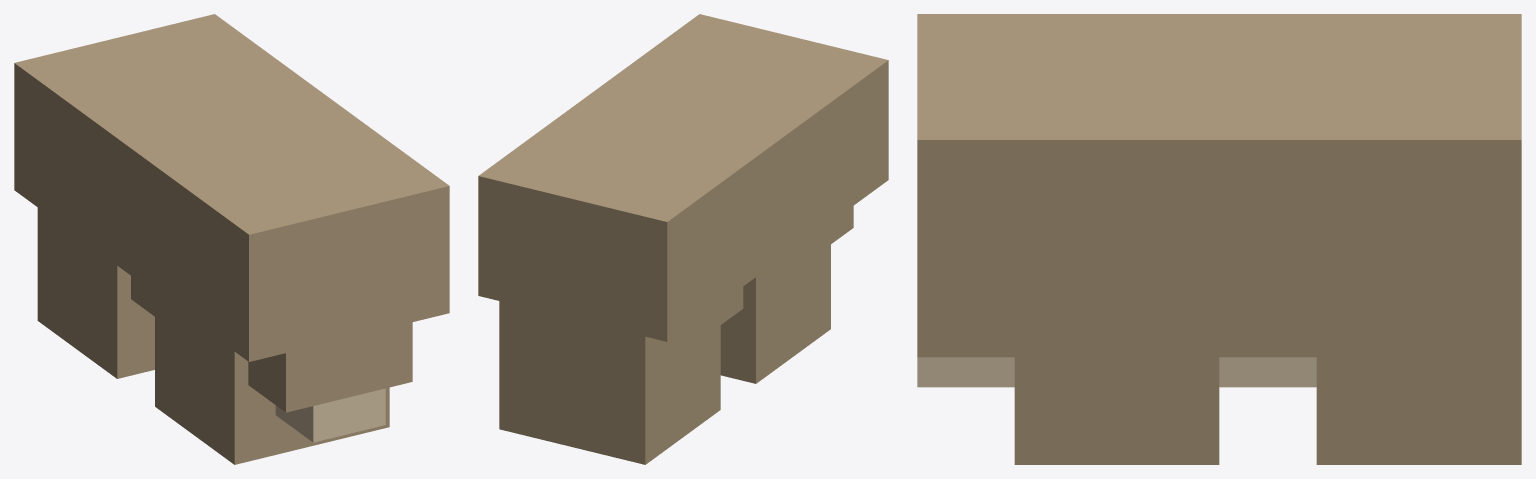
Rendered from DarkSandStoneWallMediumTopper1.fbx.
3 views of the same model, side by side, from view 1: azimuth 30°, elevation 25°; view 2: azimuth 150°, elevation 25°; view 3: azimuth 270°, elevation 25° (orthographic). The views are drawn at different scales.
Visible parts, largest first — view 1: DarkSandStoneWallMediumTopper1; view 2: DarkSandStoneWallMediumTopper1; view 3: DarkSandStoneWallMediumTopper1.
Boxes of the visible parts, x1,y1,x2,y2 form: DarkSandStoneWallMediumTopper1: (14,14,449,464); DarkSandStoneWallMediumTopper1: (478,14,888,464); DarkSandStoneWallMediumTopper1: (917,14,1521,464).
Size of the model in its own units: 197 by 248 by 400.
Materials: 2 (2 with a texture image).
